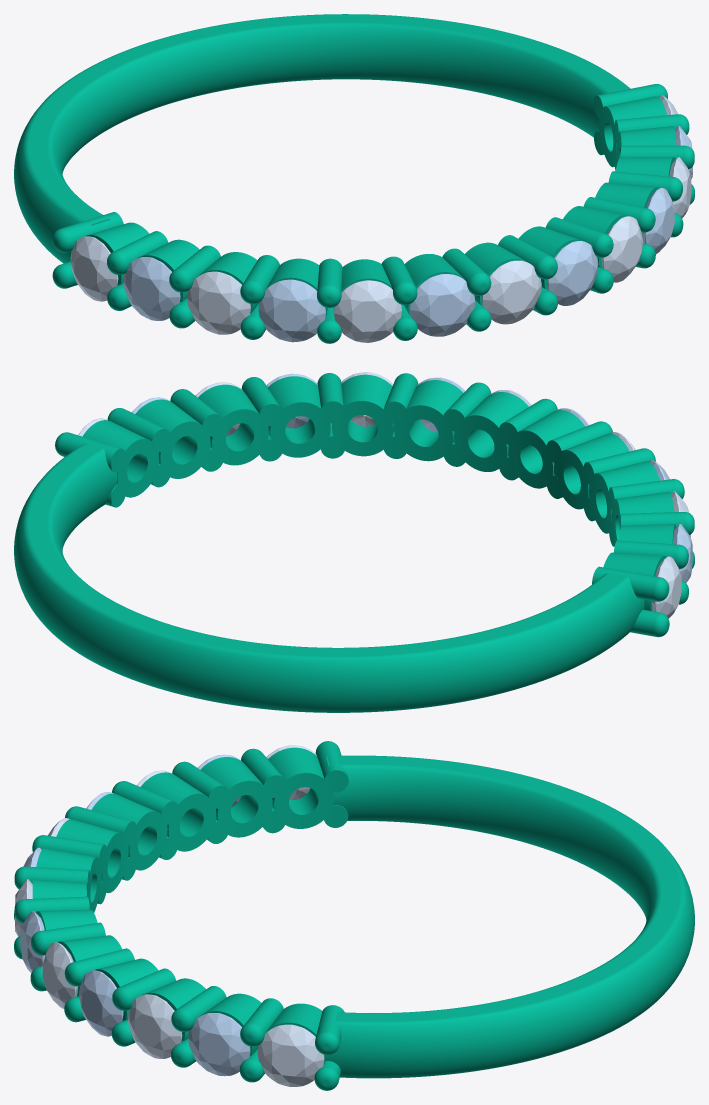
3 renders of one model, top to bottom at view 1: azimuth 30°, elevation 25°; view 2: azimuth 150°, elevation 25°; view 3: azimuth 270°, elevation 25°, orthographic.
Parts seen in each view (by area): view 1: VR-60(3)(base).3dm, Diamond_Round (×11), Head Prong (×19), Bezel (×13); view 2: VR-60(3)(base).3dm, Bezel (×13), Head Prong (×15), Diamond_Round (×2); view 3: VR-60(3)(base).3dm, Bezel (×13), Head Prong (×16), Diamond_Round (×6).
Boxes of the visible parts, box(x1,y1,x2,y2) form: VR-60(3)(base).3dm: box(14, 14, 630, 263); Diamond_Round (×11): box(70, 157, 691, 342); Head Prong (×19): box(52, 84, 694, 343); Bezel (×13): box(85, 96, 676, 317); VR-60(3)(base).3dm: box(14, 443, 644, 712); Bezel (×13): box(82, 374, 675, 611); Head Prong (×15): box(55, 373, 694, 637); Diamond_Round (×2): box(652, 524, 692, 618); VR-60(3)(base).3dm: box(325, 755, 694, 1078); Bezel (×13): box(32, 747, 333, 1063); Head Prong (×16): box(14, 741, 348, 1090); Diamond_Round (×6): box(20, 911, 324, 1086).
Size of the model in its own units: 2.87 by 0.2965 by 2.77.
